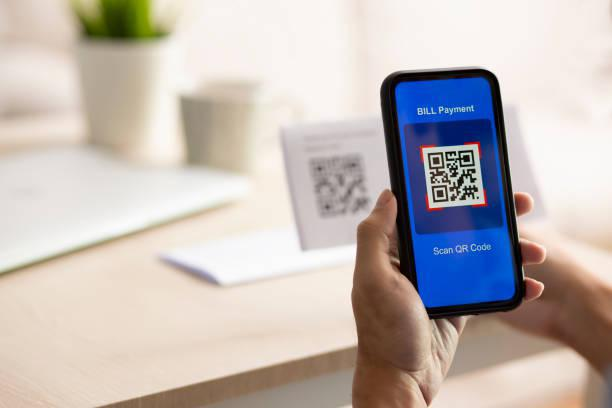Finder pattern: (456, 148, 477, 170), (431, 183, 453, 204), (426, 150, 446, 171)
